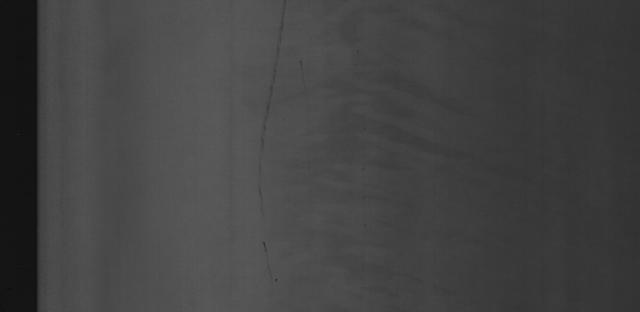inclusion: (250, 1, 290, 283)
